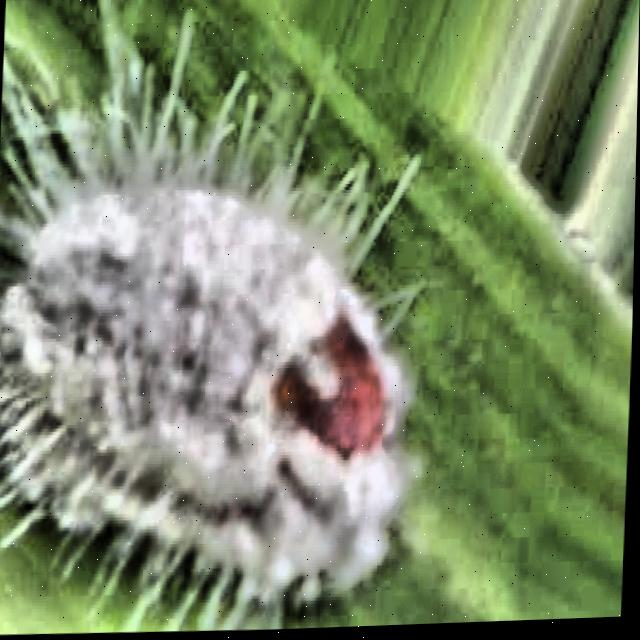Mealy-bug: (0, 8, 475, 640)
